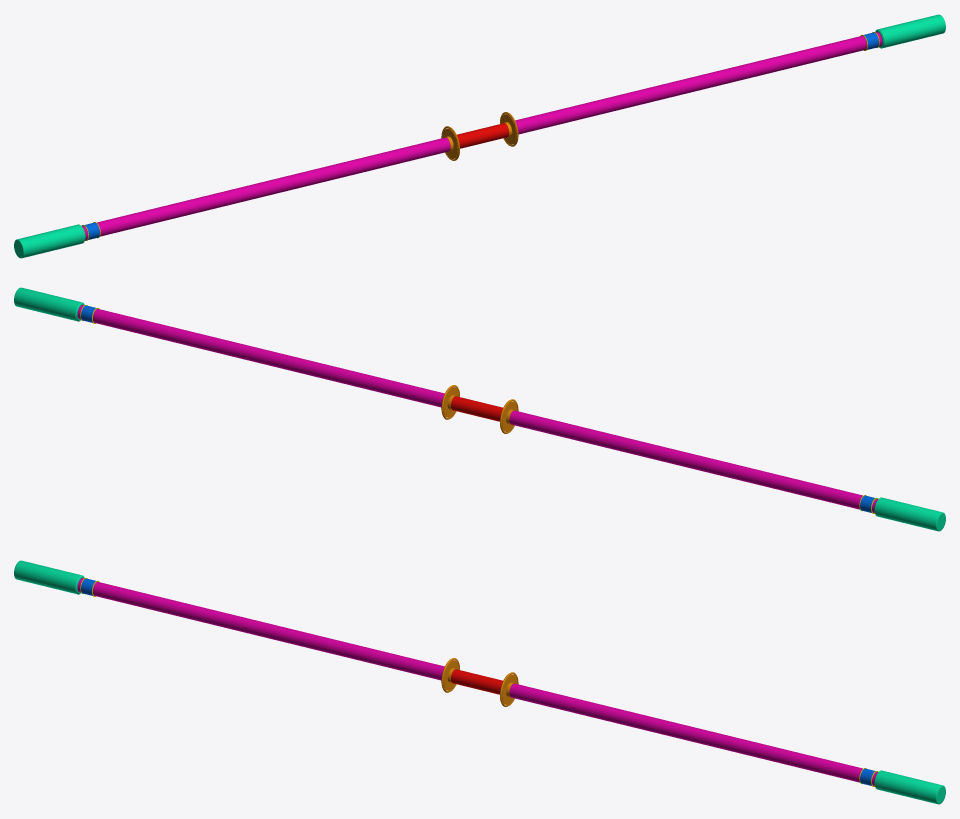
File: pole_jade.fbx
3 views of the same model, one above another, from view 1: azimuth 30°, elevation 25°; view 2: azimuth 150°, elevation 25°; view 3: azimuth 330°, elevation 25° (orthographic).
Parts seen in each view (by area): view 1: pole_import; view 2: pole_import; view 3: pole_import.
Part boxes in pixels (left/top/right/bottom): pole_import: left=14, top=14, right=945, bottom=258; pole_import: left=14, top=287, right=945, bottom=531; pole_import: left=14, top=560, right=945, bottom=804.
Bounding box in the file's own units: 7.14 × 212 × 7.14.
